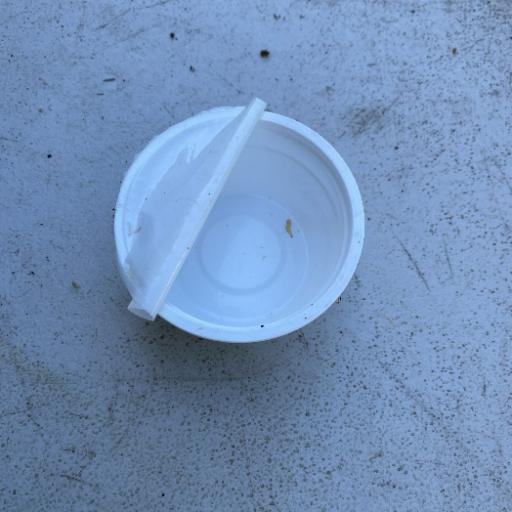Plastic: (110, 95, 368, 346)
